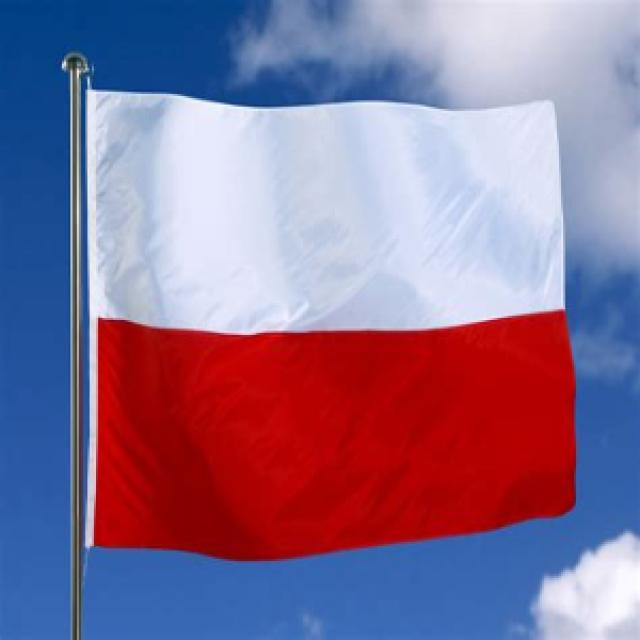poland: (54, 65, 575, 544)
